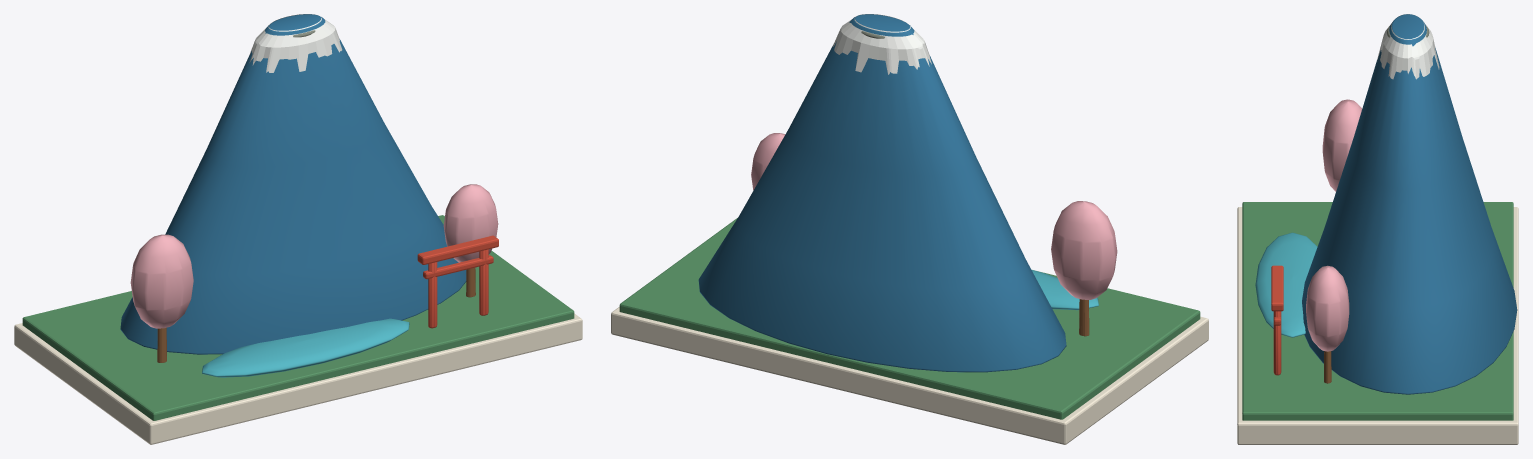
The model's file is mount-fuji.glb.
The picture shows the model from 3 angles, left to right: view 1: azimuth 30°, elevation 25°; view 2: azimuth 150°, elevation 25°; view 3: azimuth 270°, elevation 25°; orthographic projection. The views are drawn at different scales.
Parts seen in each view (by area): view 1: Mount Fuji; view 2: Mount Fuji; view 3: Mount Fuji.
Part boxes in pixels (x1=…): Mount Fuji: x1=14, y1=14, x2=582, y2=444; Mount Fuji: x1=611, y1=14, x2=1208, y2=444; Mount Fuji: x1=1237, y1=14, x2=1518, y2=444.
Bounding box in the file's own units: 1.47 × 1 × 0.8064.
